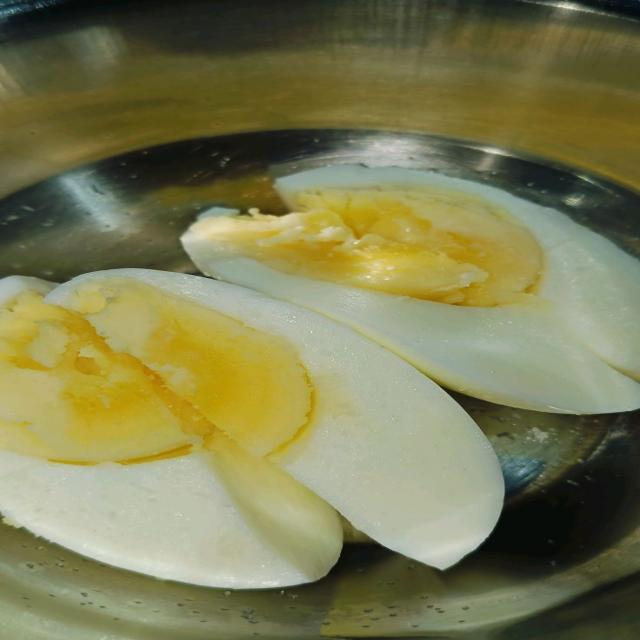eggs: (0, 129, 640, 619)
